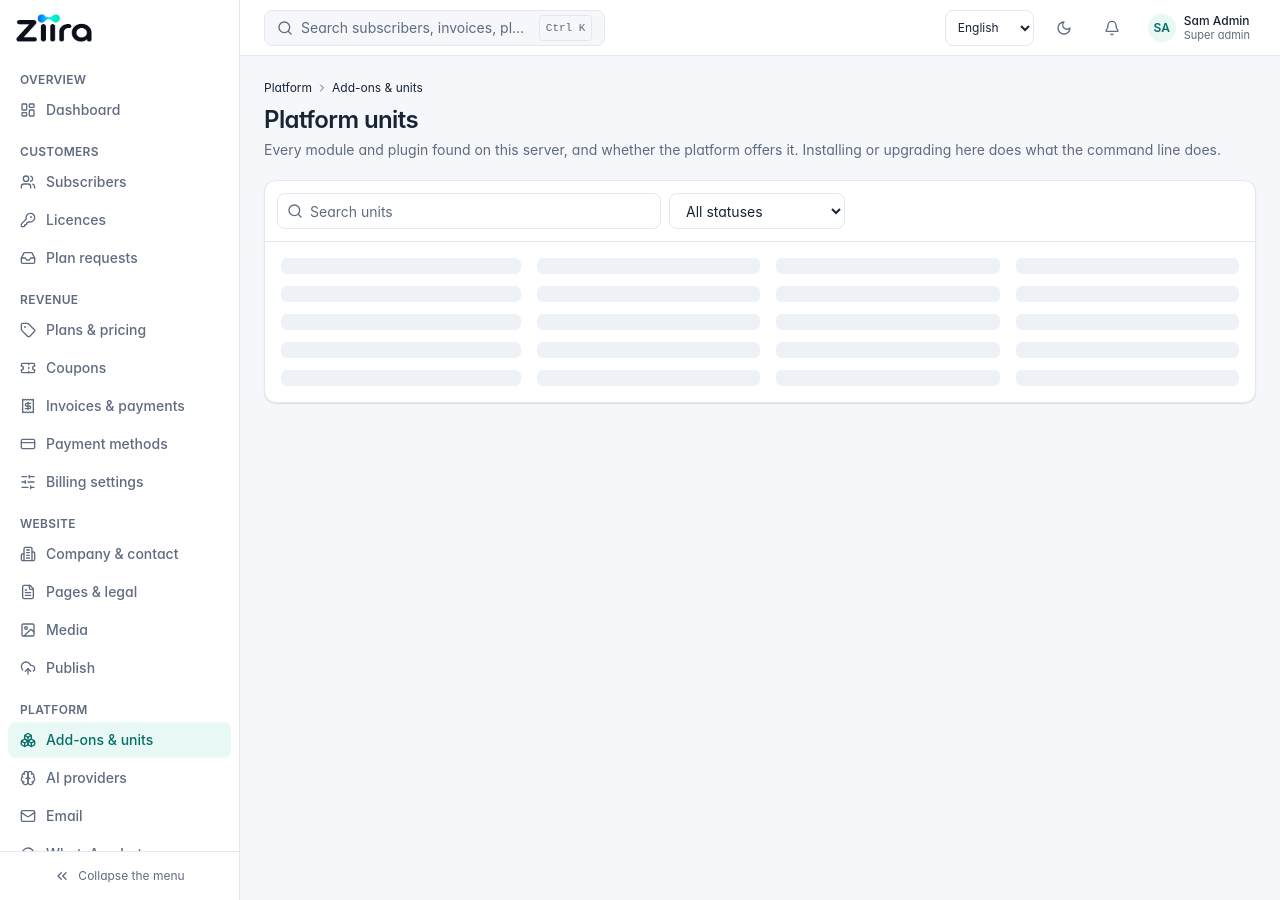
it: the search box › asks the server only after two characters and lists what it finds, grouped
Expected: the navigation bar named "Console areas" is shown, [0,56,239,851]
Step 1. Press /
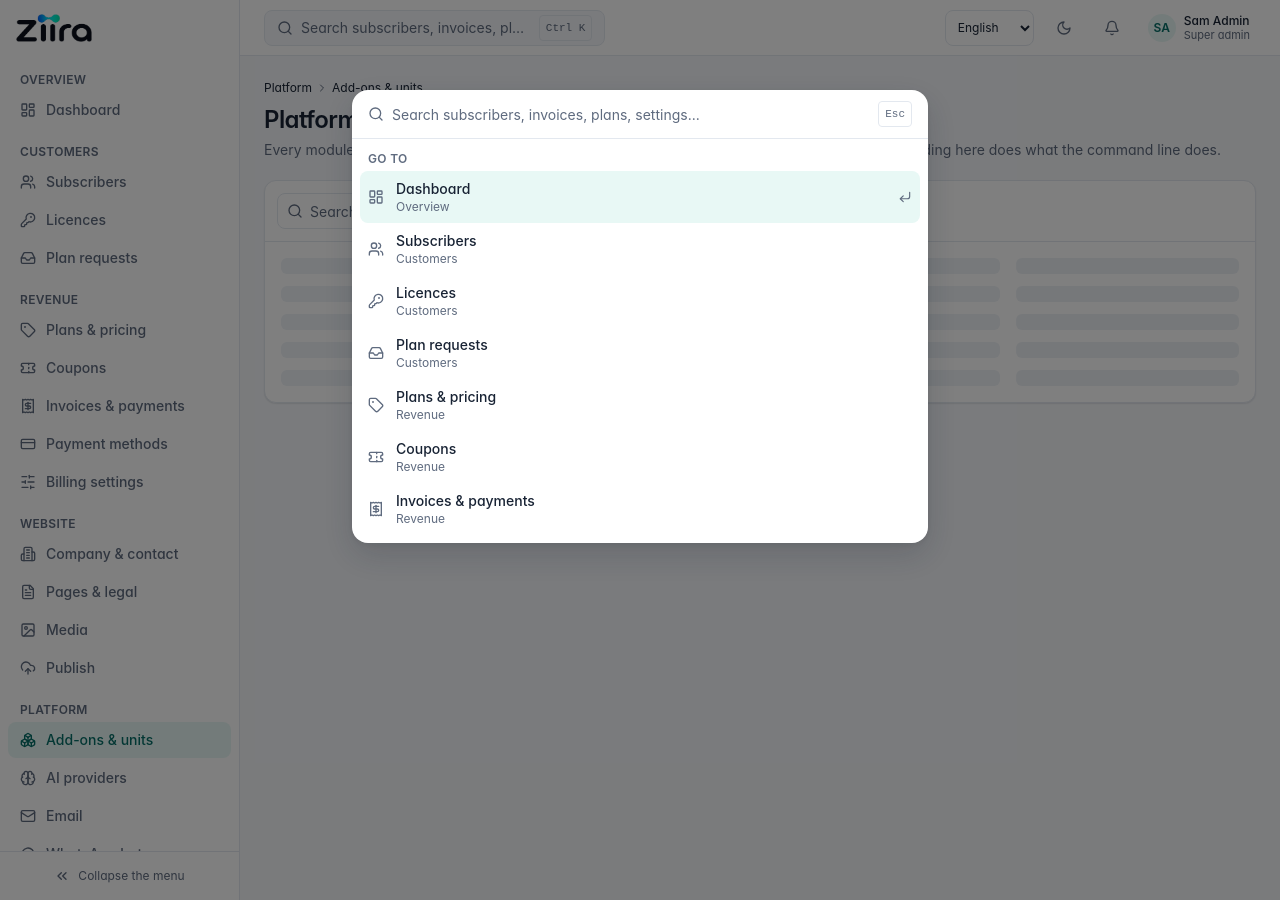
Step 2. Type "s" into the dropdown named "Search the console" → (631, 114), box [392,90,870,138]
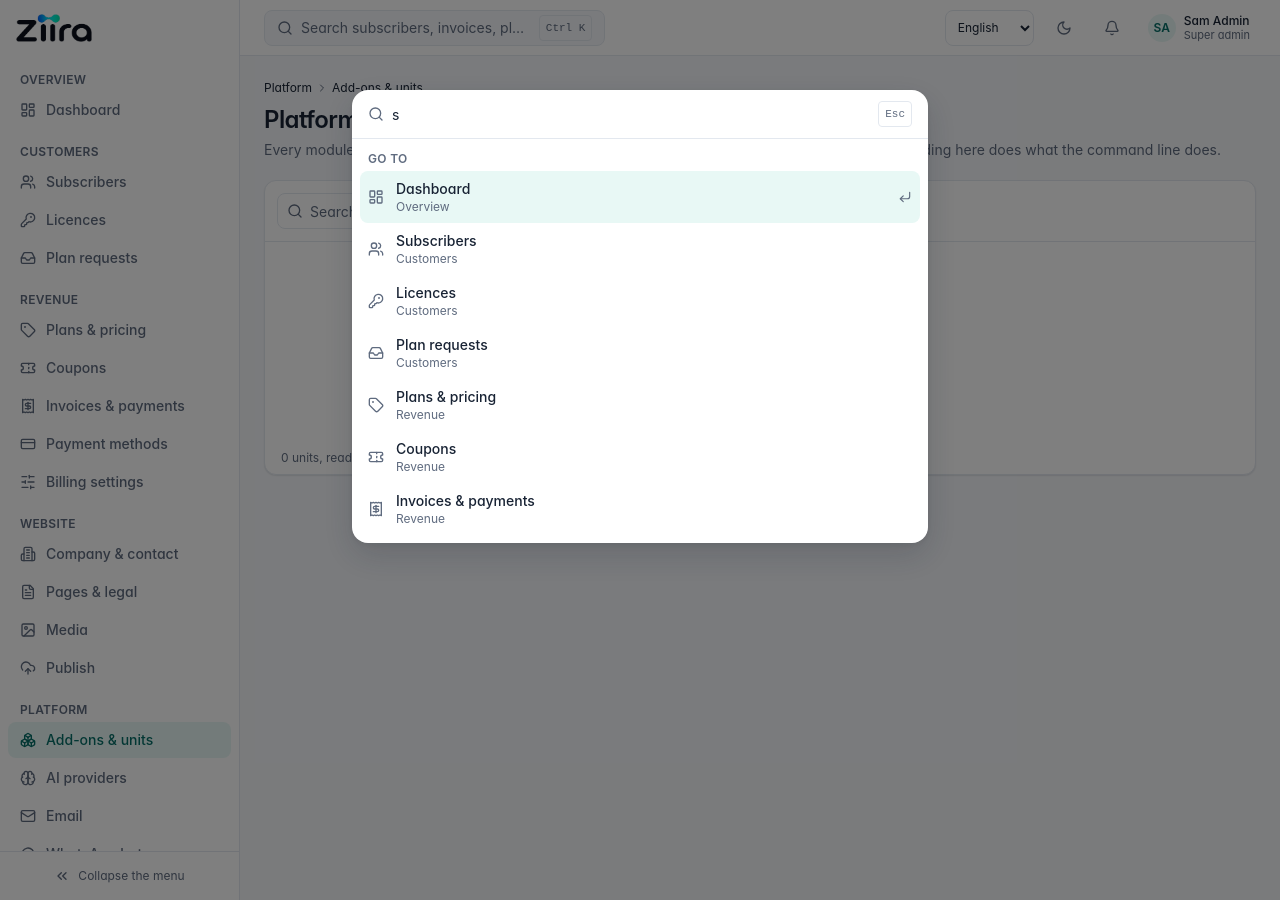
Step 3. Replace the text in the dropdown named "Search the console" with "shop" → (631, 114), box [392,90,870,138]
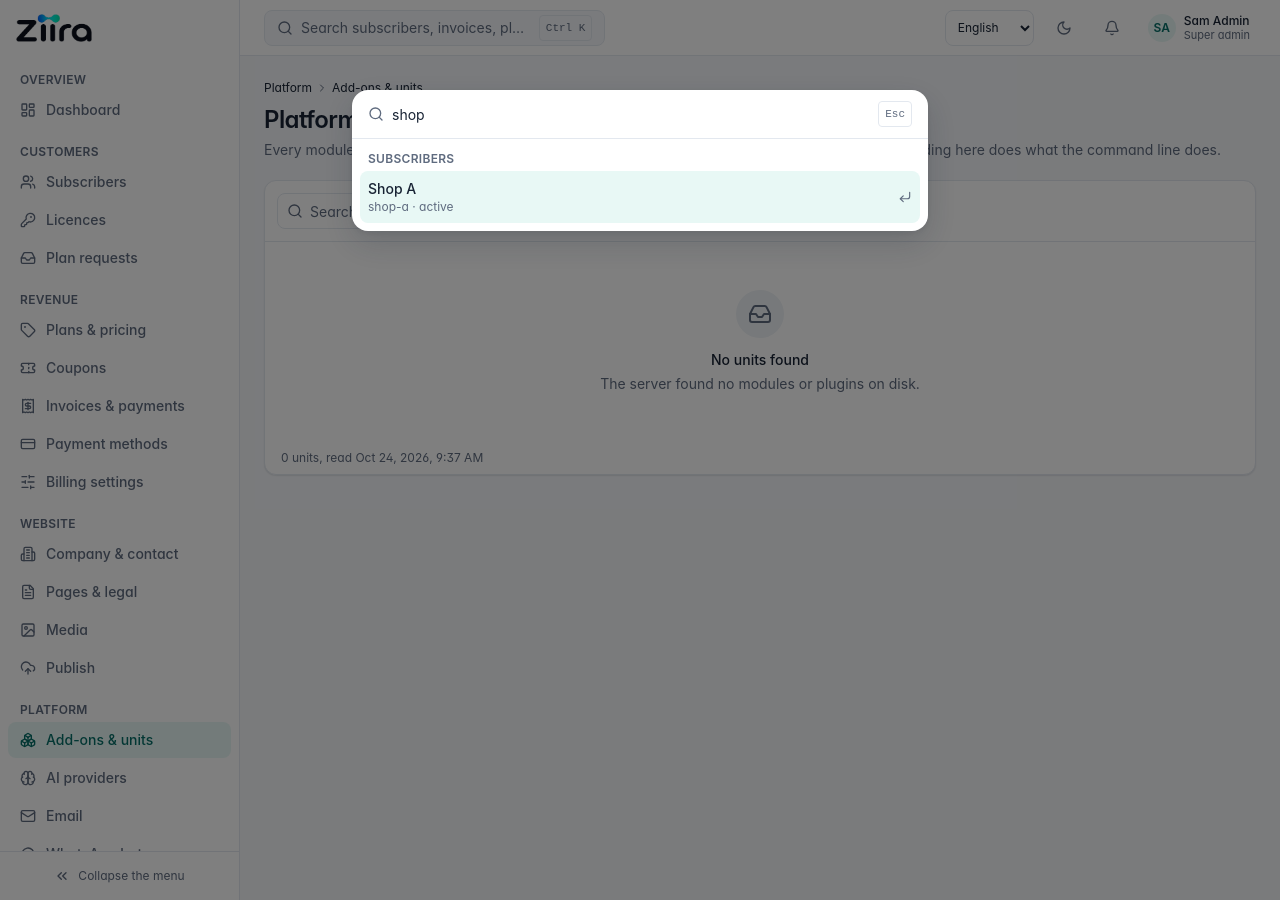
Expected: the text "Shop A" is shown, [368,180,416,197]
Step 4. Click the option "Shop A shop-a · active" → (392, 188), box [360,171,920,223]
(page scrolled)
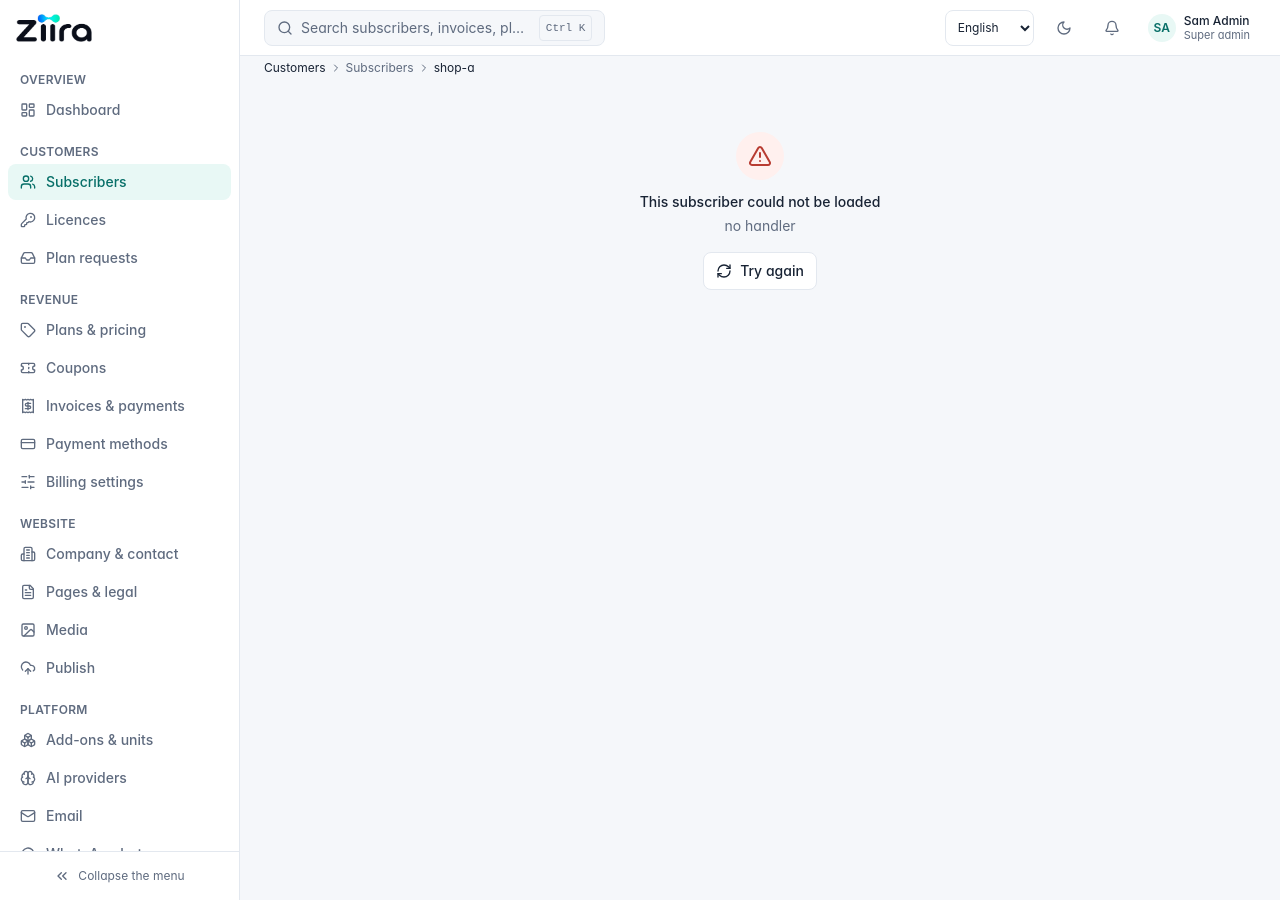
Expected: the text with test id "where" reads "/operator/subscribers/shop-a", [0,881,197,898]
